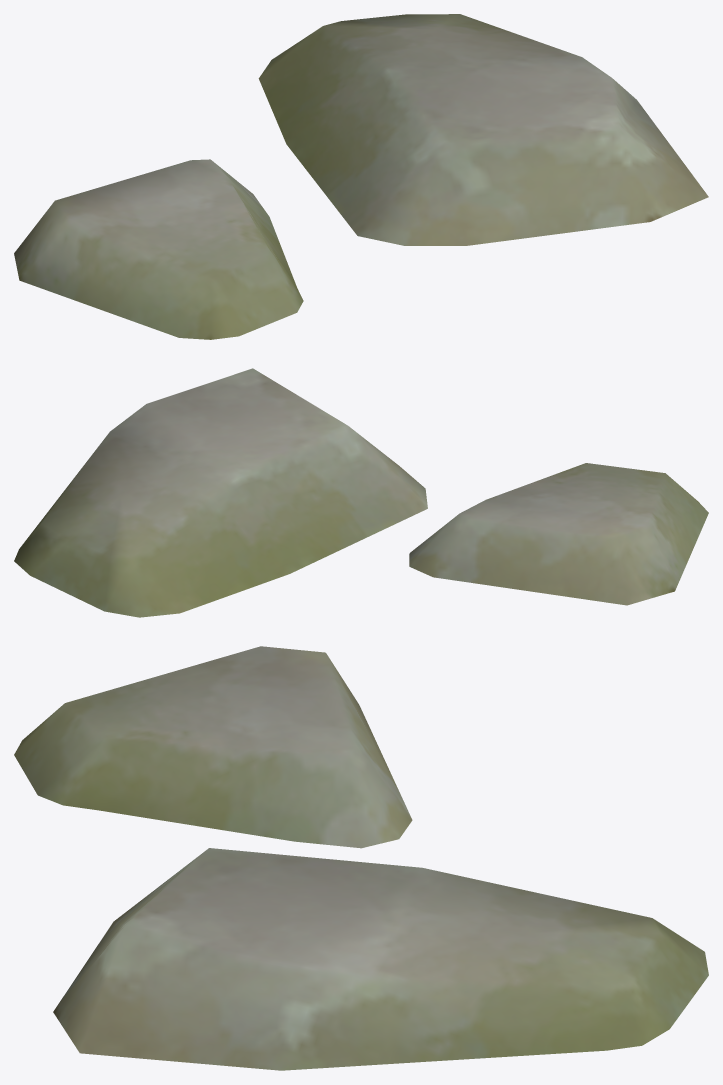
Rendered from JZ_Shiban_A_04.fbx.
3 views of the same model, one above another, from view 1: azimuth 30°, elevation 25°; view 2: azimuth 150°, elevation 25°; view 3: azimuth 270°, elevation 25° (orthographic). The views are drawn at different scales.
Visible parts, largest first — view 1: JZ_Shiban_A_04; view 2: JZ_Shiban_A_04; view 3: JZ_Shiban_A_04.
Boxes of the visible parts, left/top/right/bottom form: JZ_Shiban_A_04: left=14, top=14, right=708, bottom=339; JZ_Shiban_A_04: left=14, top=368, right=708, bottom=617; JZ_Shiban_A_04: left=14, top=646, right=708, bottom=1070.
Bounding box in the file's own units: 99.23 × 11.47 × 77.12.
